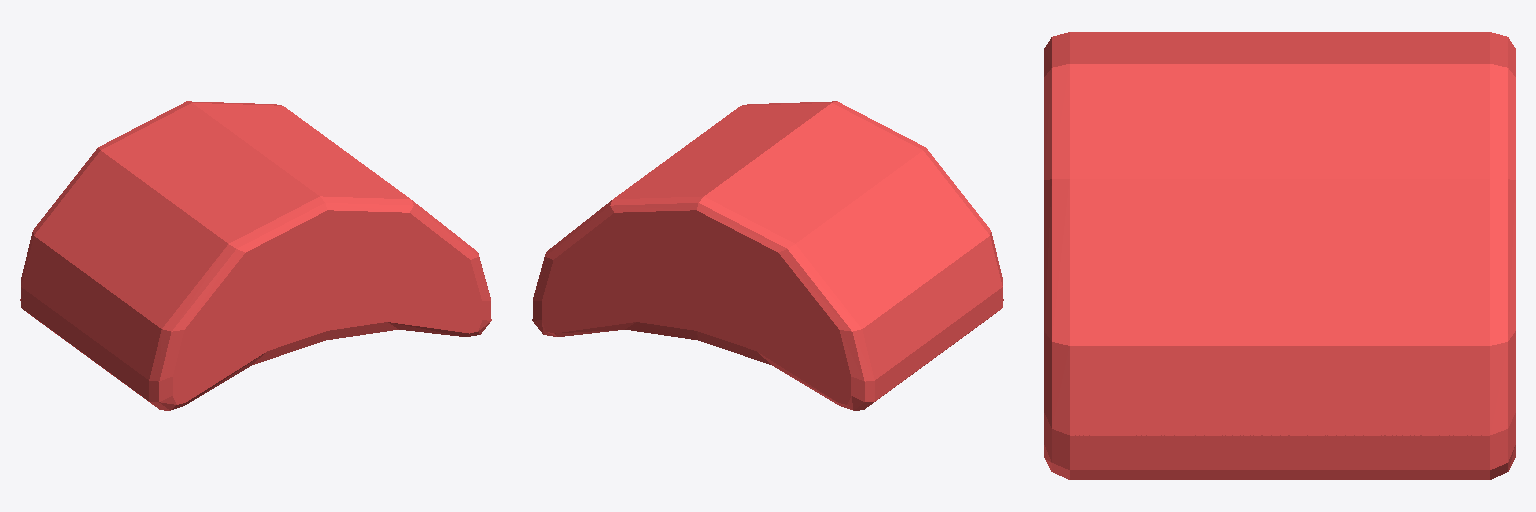
The robot description file, URDF, robot "red_moon.urdf":
<?xml version="1.0" ?>
<robot name="red_moon.urdf">
  <link name="baseLink">
    <contact>
      <lateral_friction value="0.5"/>
      <rolling_friction value="0.0001"/>
      <inertia_scaling value="1.0"/>
    </contact>
    <inertial>
      <origin rpy="0 0 0" xyz="0 0 0"/>
       <mass value=".01"/>
       <inertia ixx="1" ixy="0" ixz="0" iyy="1" iyz="0" izz="1"/>
    </inertial>
    <visual>
      <origin rpy="0 0 0" xyz="0 0 0"/>
      <geometry>
        <mesh filename="moon.obj" scale="1.0 1.0 1.0"/>
      </geometry>
       <material name="red">
        <color rgba="1 0.4 0.4 1"/>
      </material>
    </visual>
    <collision>
      <origin rpy="0 0 0" xyz="0 0 0"/>
      <geometry>
        <mesh filename="moon.obj" scale="1.0 1.0 1.0"/>
      </geometry>
    </collision>
  </link>
</robot>

--- Facts derived from the render (not from the file) ---
Views: 3 orthographic renders of the robot side by side, from view 1: azimuth 30°, elevation 25°; view 2: azimuth 150°, elevation 25°; view 3: azimuth 270°, elevation 25°.
Robot: red_moon.urdf — 1 links, 0 joints (none); root link baseLink; default pose: all joints at 0.
Visible links, largest first — view 1: baseLink; view 2: baseLink; view 3: baseLink.
Link boxes in pixels (bbox=[...]): baseLink: bbox=[20, 101, 491, 410]; baseLink: bbox=[532, 101, 1003, 410]; baseLink: bbox=[1044, 32, 1515, 479].
Bounding box of the posed robot: 0.0525 × 0.0381 × 0.0257 m (x, y, z).
Meshes: 1 distinct files referenced, 1 mesh visuals loaded (1 OBJ).